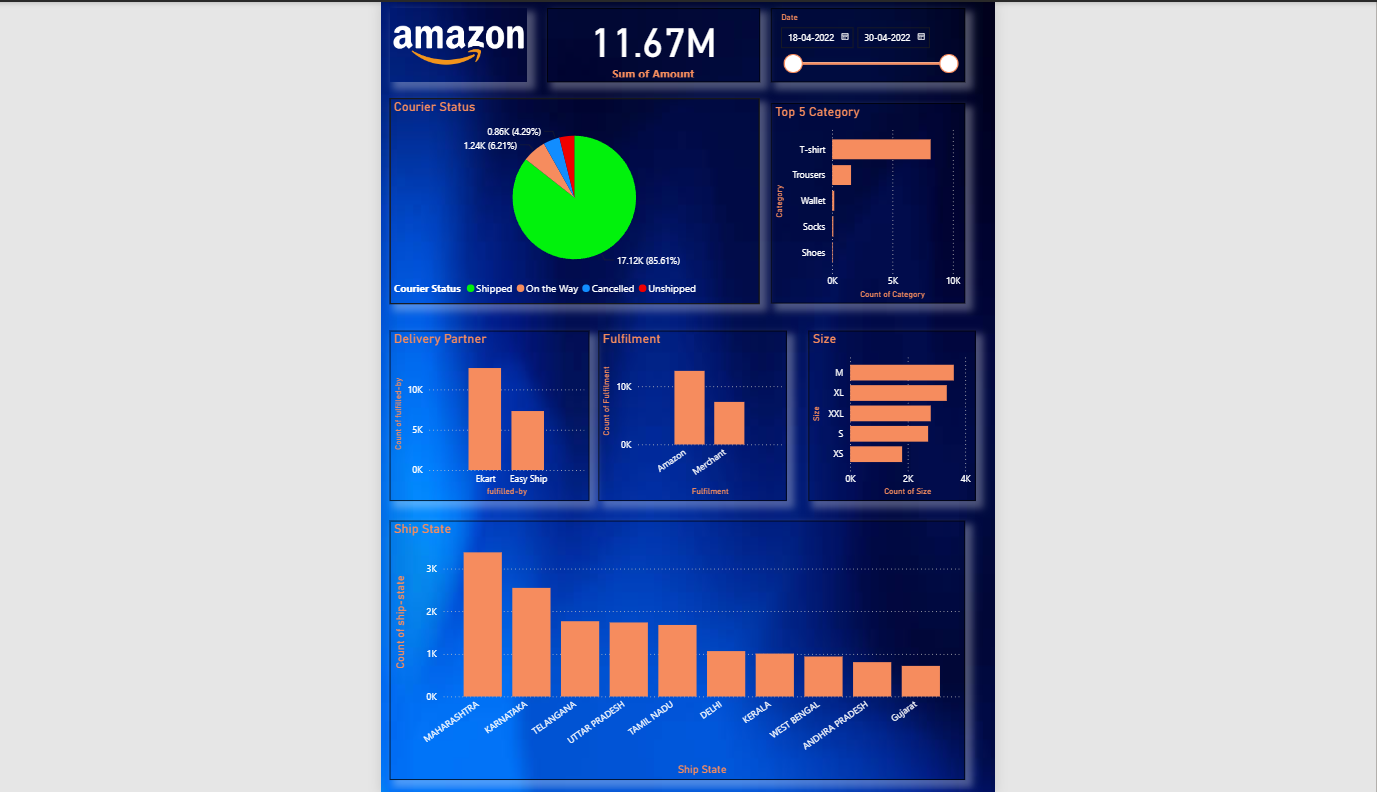

What the dashboard file says about the page in this screenshot:
{"tool":"powerbi","page":{"name":"Sales","canvas":[816,1056],"ordinal":0},"visuals":[{"type":"image","box":[12.4,8.8,183.2,98.2],"z":0},{"type":"card","fields":{"Values":["Sum(Amazon Sale Report.Amount)"]},"box":[221.2,8.8,283.2,98.2],"z":1000},{"type":"slicer","fields":{"Values":["Amazon Sale Report.Date"]},"box":[519.5,8.8,258.4,98.2],"z":2000},{"type":"barChart","title":"Top 5 Category","fields":{"Y":["CountNonNull(Amazon Sale Report.Category)"],"Category":["Amazon Sale Report.Category"]},"box":[519.5,135.4,258.4,266.4],"z":3000},{"type":"pieChart","title":"Courier Status","fields":{"Category":["Amazon Sale Report.Courier Status"],"Y":["CountNonNull(Amazon Sale Report.Courier Status)"]},"box":[12.4,128.3,492,273.5],"z":4000},{"type":"columnChart","title":"Delivery Partner","fields":{"Category":["Amazon Sale Report.fulfilled-by"],"Y":["CountNonNull(Amazon Sale Report.fulfilled-by)"]},"box":[12.4,438.1,265.5,226.5],"z":5000},{"type":"columnChart","title":"Fulfilment ","fields":{"Category":["Amazon Sale Report.Fulfilment"],"Y":["CountNonNull(Amazon Sale Report.Fulfilment)"]},"box":[290.3,438.1,250.4,226.5],"z":6000},{"type":"clusteredBarChart","title":" Size","fields":{"Category":["Amazon Sale Report.Size"],"Y":["CountNonNull(Amazon Sale Report.Size)"]},"box":[569,438.1,222.1,226.5],"z":7000},{"type":"clusteredColumnChart","title":" Ship State","fields":{"Category":["Amazon Sale Report.ship-state"],"Y":["CountNonNull(Amazon Sale Report.ship-state)"]},"box":[12.4,691.2,765.5,345.1],"z":8000}]}

Visuals, with their boxes in screenshot pixels (x1, y1, x2, y2):
image: left=379, top=0, right=525, bottom=38
card - Sum(Amazon Sale Report.Amount): left=545, top=0, right=771, bottom=38
slicer - Amazon Sale Report.Date: left=783, top=0, right=988, bottom=38
"Top 5 Category" barChart: left=783, top=61, right=988, bottom=273
"Courier Status" pieChart: left=379, top=55, right=771, bottom=273
"Delivery Partner" columnChart: left=379, top=302, right=590, bottom=482
"Fulfilment " columnChart: left=600, top=302, right=799, bottom=482
" Size" clusteredBarChart: left=822, top=302, right=999, bottom=482
" Ship State" clusteredColumnChart: left=379, top=503, right=988, bottom=778
